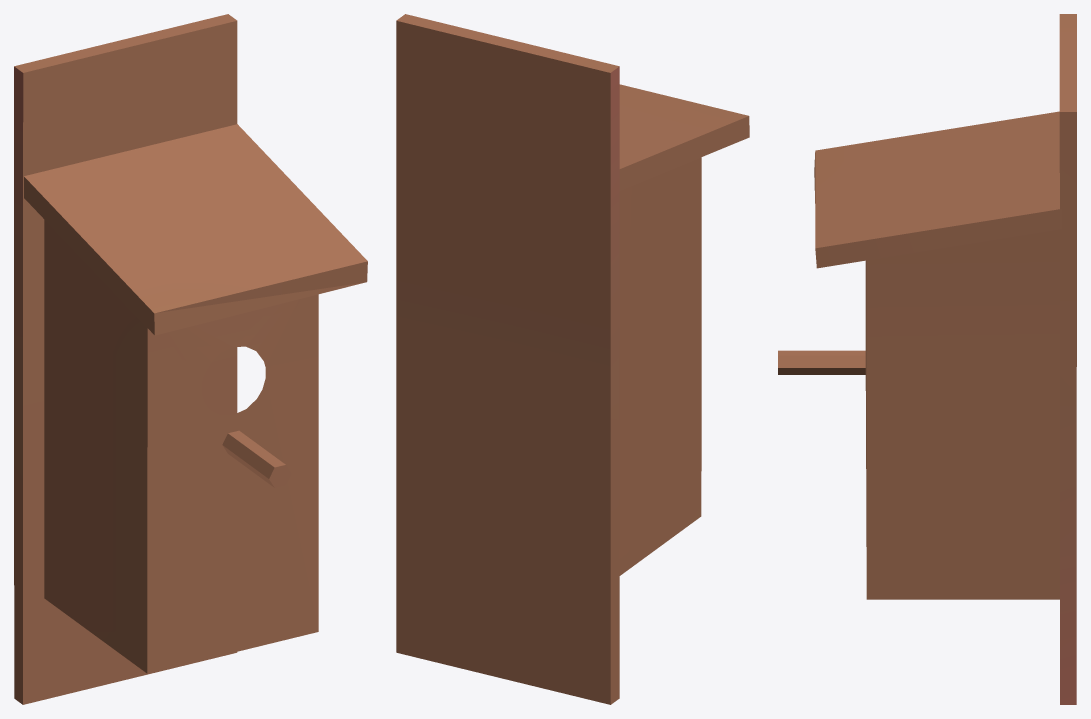
Rendered from birdHouse2.glb.
3 views of the same model, side by side, from view 1: azimuth 30°, elevation 25°; view 2: azimuth 150°, elevation 25°; view 3: azimuth 270°, elevation 25° (orthographic). The views are drawn at different scales.
Parts seen in each view (by area): view 1: Bird_House; view 2: Bird_House; view 3: Bird_House.
Boxes of the visible parts, x1,y1,x2,y2 form: Bird_House: [14, 14, 367, 704]; Bird_House: [396, 14, 749, 704]; Bird_House: [778, 14, 1076, 704].
Bounding box in the file's own units: 0.1557 × 0.4386 × 0.2004.
1 material, 1 textured.
